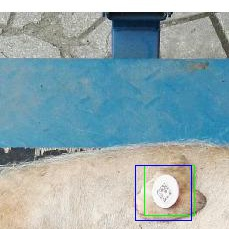text: (144, 165, 194, 215)
